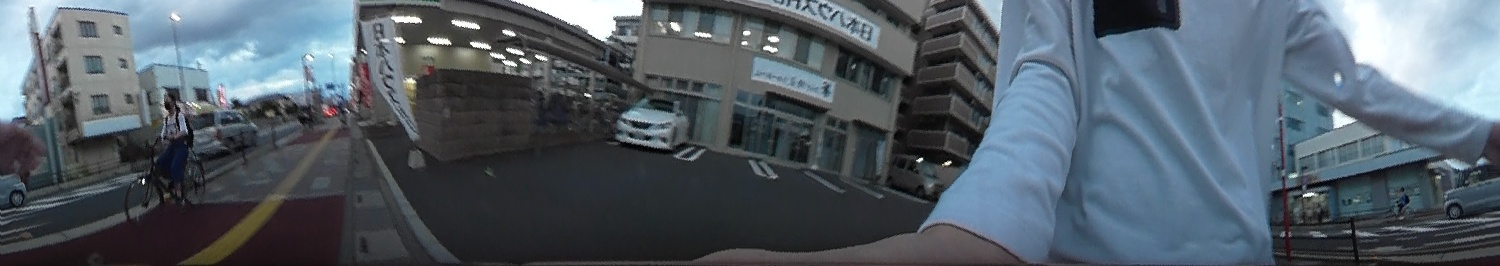difficult_person: (1392, 186, 1410, 216)
person: (154, 87, 192, 197)
